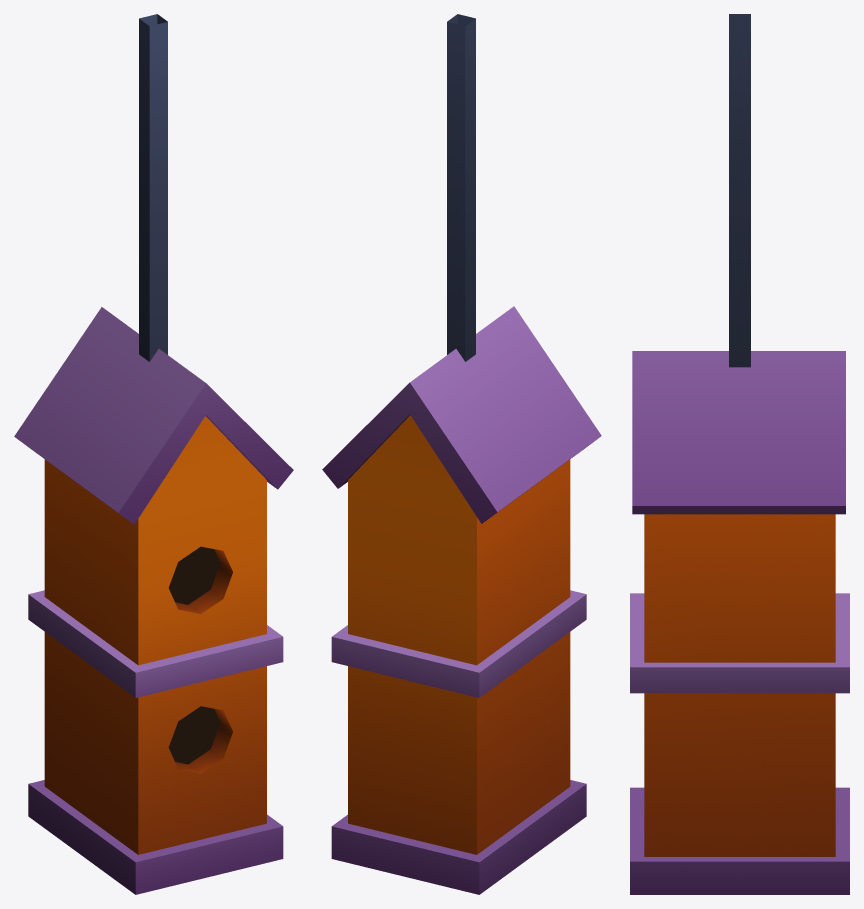
The model's file is BirdHouse_01.fbx.
3 renders of one model, left to right at view 1: azimuth 30°, elevation 25°; view 2: azimuth 150°, elevation 25°; view 3: azimuth 270°, elevation 25°, orthographic. The views are drawn at different scales.
Parts seen in each view (by area): view 1: BirdHouse_01; view 2: BirdHouse_01; view 3: BirdHouse_01.
Part boxes in pixels (left/top/right/bottom): BirdHouse_01: left=14, top=14, right=293, bottom=894; BirdHouse_01: left=322, top=14, right=601, bottom=894; BirdHouse_01: left=630, top=14, right=849, bottom=894.
Bounding box in the file's own units: 40.41 × 180 × 42.82.
1 material, 1 textured.
